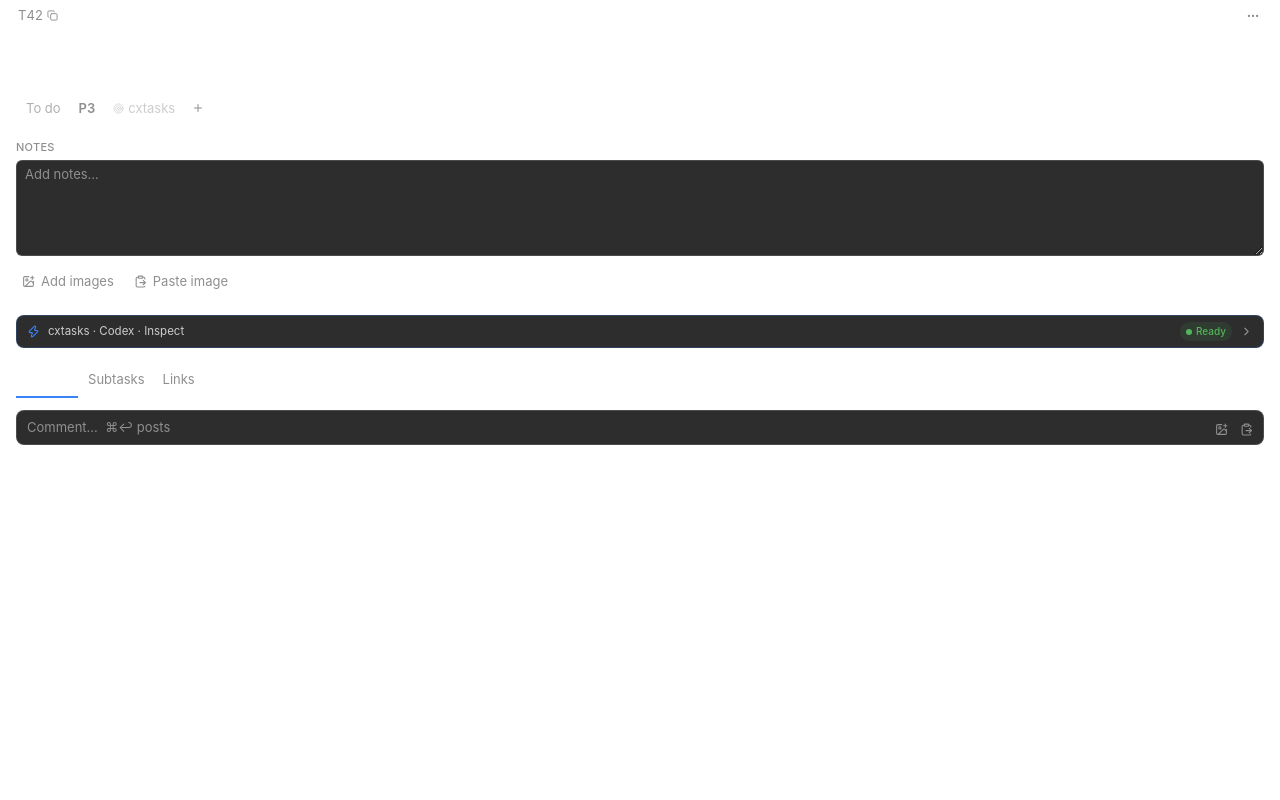
Test: the executor availability warning › stays visible while the runner editor is closed
Click the button titled "Show the launch console": [116, 331] box [17, 316, 1263, 347]
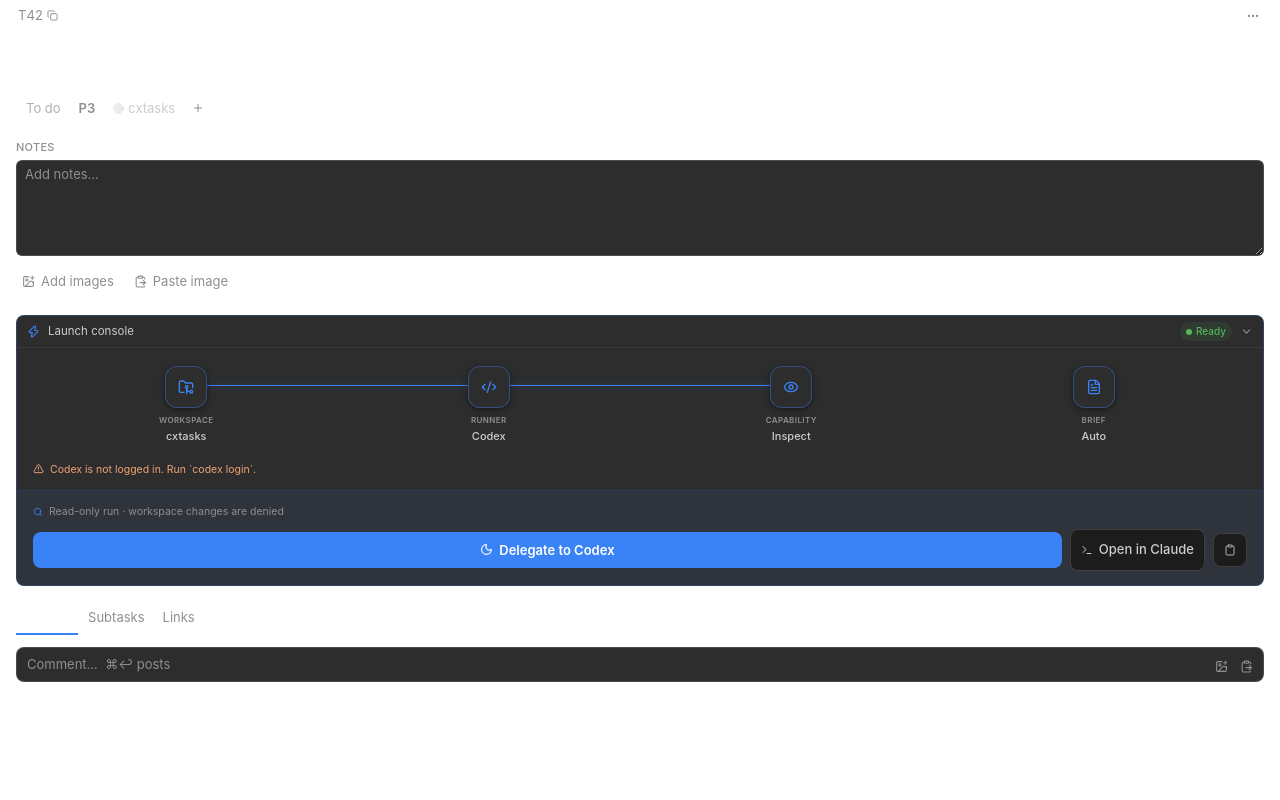
Check: the text "Codex is not logged in. Run `codex login`." is shown, box [50, 460, 256, 478]
